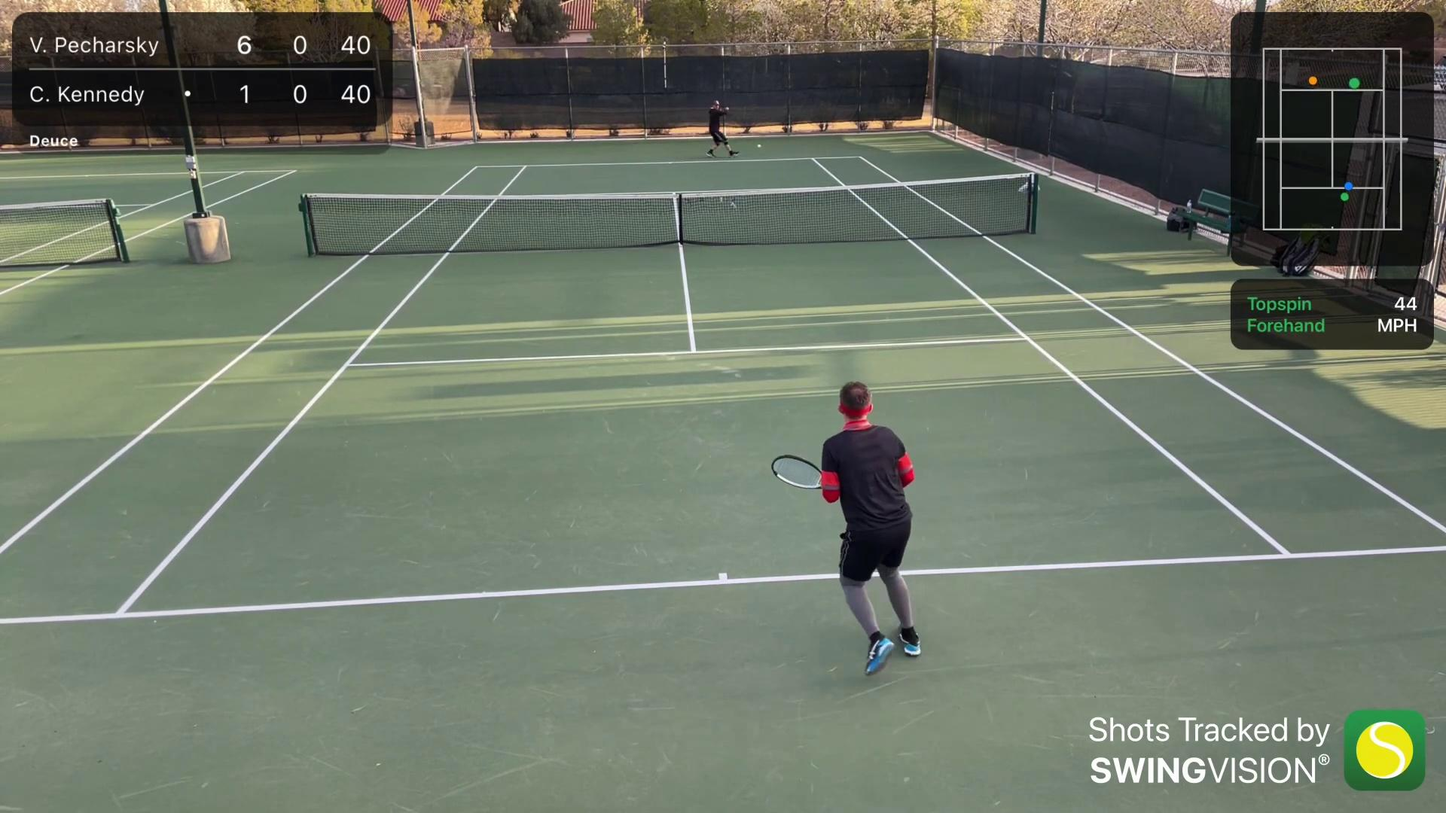ball: (757, 142, 761, 147)
